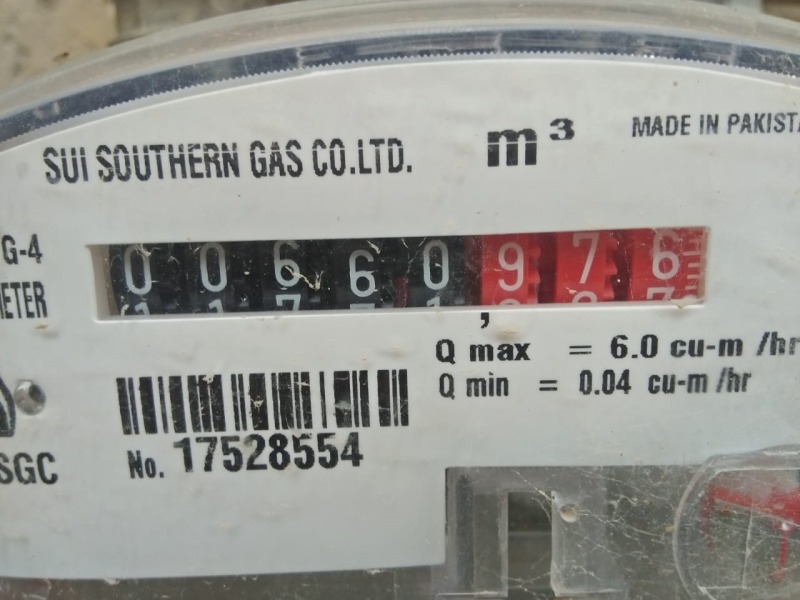ssgc: (84, 225, 708, 315)
